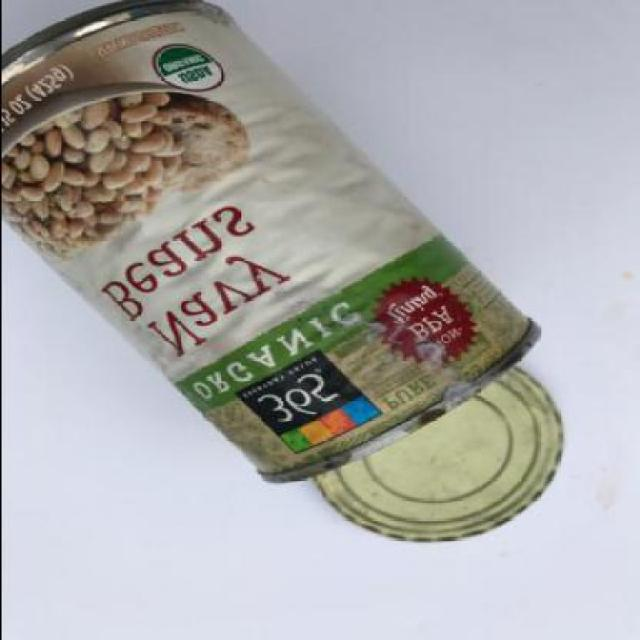METAL: (1, 2, 542, 486), (311, 363, 563, 545)
